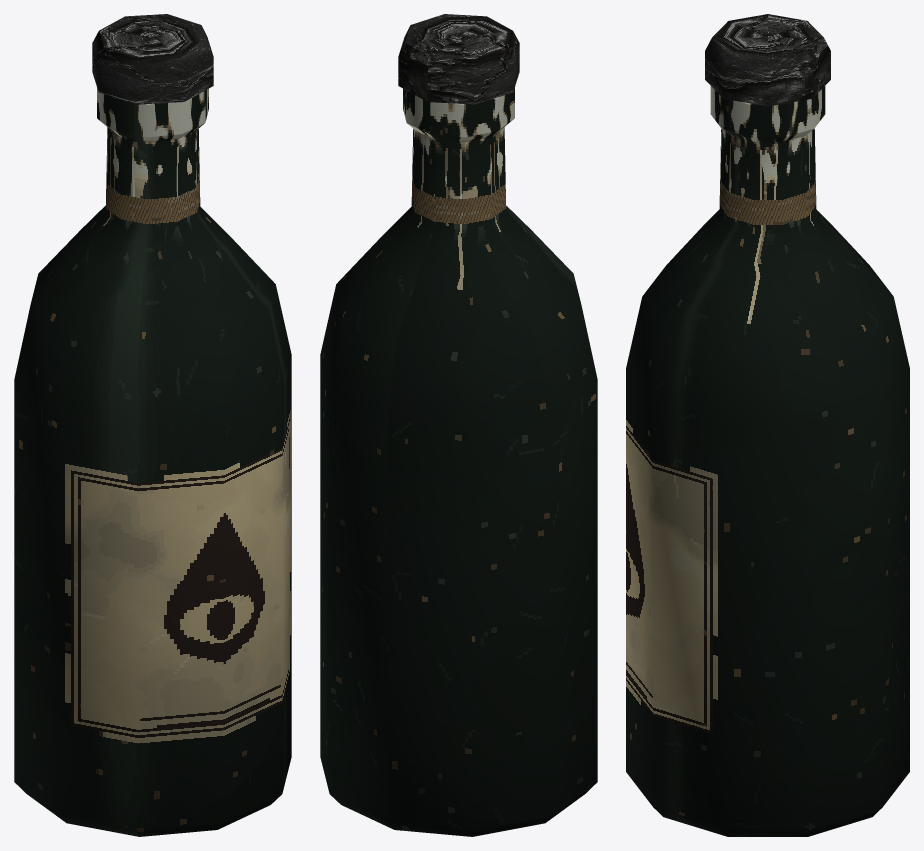
The model's file is HB_Ing_BlackBrine.glb.
The picture shows the model from 3 angles, left to right: view 1: azimuth 30°, elevation 25°; view 2: azimuth 150°, elevation 25°; view 3: azimuth 270°, elevation 25°; orthographic projection.
Parts seen in each view (by area): view 1: HB_Ing_BlackBrine_Container, HB_Ing_BlackBrine_Closure; view 2: HB_Ing_BlackBrine_Container, HB_Ing_BlackBrine_Closure; view 3: HB_Ing_BlackBrine_Container, HB_Ing_BlackBrine_Closure.
Part boxes in pixels (<box>): HB_Ing_BlackBrine_Container: <box>14,88,291,836</box>; HB_Ing_BlackBrine_Closure: <box>92,14,213,104</box>; HB_Ing_BlackBrine_Container: <box>320,88,597,836</box>; HB_Ing_BlackBrine_Closure: <box>398,14,519,104</box>; HB_Ing_BlackBrine_Container: <box>626,86,909,836</box>; HB_Ing_BlackBrine_Closure: <box>705,14,830,106</box>.
Size of the model in its own units: 0.0751 by 0.2295 by 0.079.
Materials: 2 (2 with a texture image).
